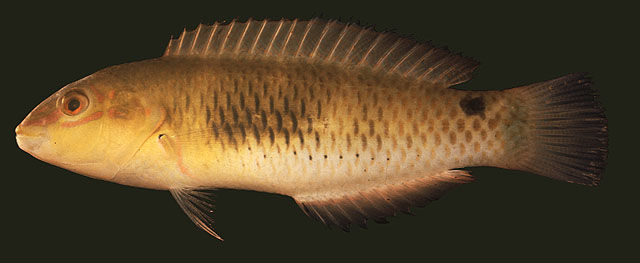fish: (15, 16, 609, 242)
